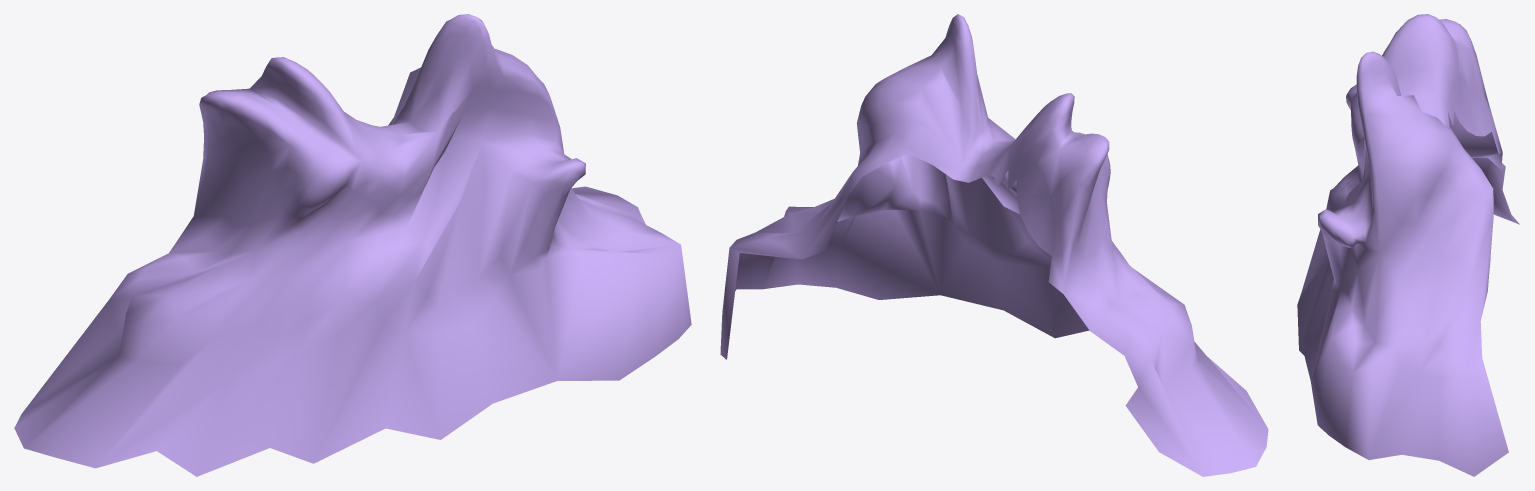
Rendered from ytlds_Object (1).fbx.
3 views of the same model, side by side, from view 1: azimuth 30°, elevation 25°; view 2: azimuth 150°, elevation 25°; view 3: azimuth 270°, elevation 25° (orthographic). The views are drawn at different scales.
Parts seen in each view (by area): view 1: Object01; view 2: Object01; view 3: Object01.
Boxes of the visible parts, x1,y1,x2,y2 form: Object01: (14,14,691,476); Object01: (720,14,1268,476); Object01: (1297,14,1519,476).
Bounding box in the file's own units: 464 × 278 × 167.
